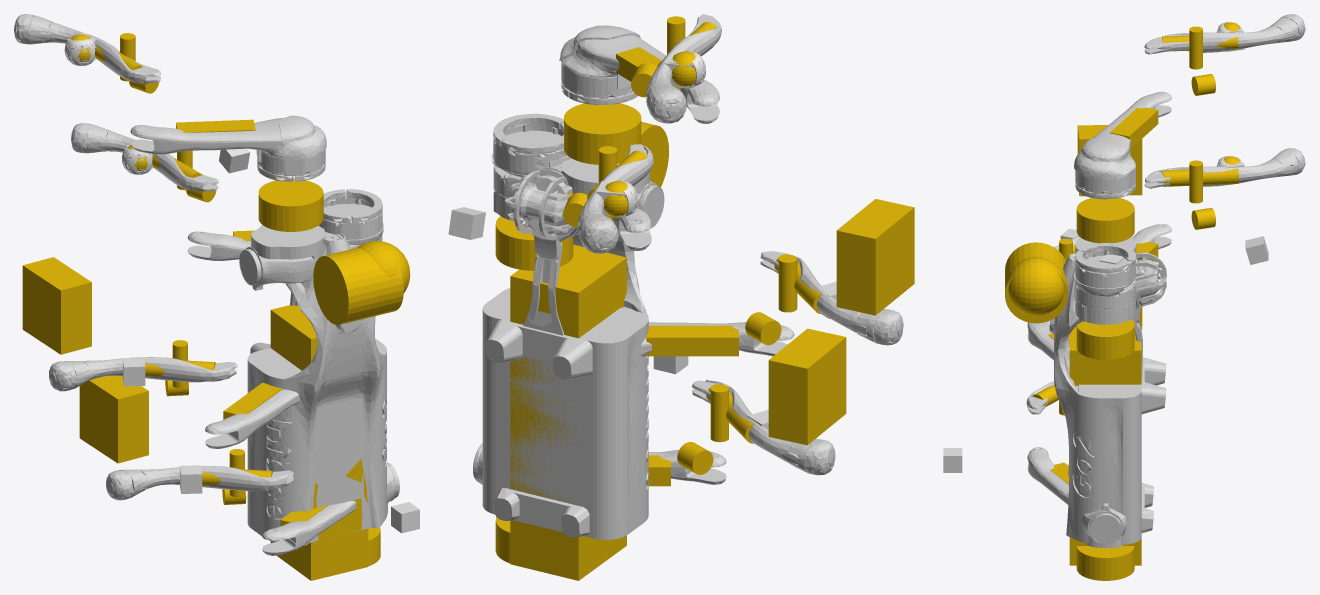
Rendered from go2_biped.fbx.
3 renders of one model, left to right at view 1: azimuth 30°, elevation 25°; view 2: azimuth 150°, elevation 25°; view 3: azimuth 270°, elevation 25°, orthographic. The views are drawn at different scales.
Parts seen in each view (by area): view 1: base_None, FL_thigh_None, base_None.000, RL_foot_None.000, Head_upper_None, RR_foot_None.000, FR_thigh_None, FL_hip_None, RL_calf_None, RR_calf_None, FL_hip_None.000, FL_calf_None (+12 smaller); view 2: base_None, base_None.000, RR_foot_None.000, RL_foot_None.000, FL_thigh_None, FR_thigh_None, FL_hip_None.000, RR_calf_None, RL_calf_None, RL_thigh_None.000, FL_calf_None, FR_calf_None (+16 smaller); view 3: base_None, FL_thigh_None, FR_thigh_None, base_None.000, Head_lower_None, FL_calf_None, FL_hip_None.000, FR_hip_None.000, FR_calf_None, FR_hip_None, RR_hip_None.000, Head_upper_None (+12 smaller).
Boxes of the visible parts, x1,y1,x2,y2 form: base_None: (247,232,386,545); FL_thigh_None: (130,115,326,181); base_None.000: (270,305,368,580); RL_foot_None.000: (22,257,91,354); Head_upper_None: (313,247,403,324); RR_foot_None.000: (79,376,148,463); FR_thigh_None: (187,189,383,260); FL_hip_None: (239,225,325,290); RL_calf_None: (49,357,237,391); RR_calf_None: (106,466,293,500); FL_hip_None.000: (258,179,323,231); FL_calf_None: (14,14,161,83); base_None: (482,164,648,539); base_None.000: (510,244,626,580); RR_foot_None.000: (768,328,846,445); RL_foot_None.000: (836,199,914,315); FL_thigh_None: (559,25,719,123); FR_thigh_None: (491,113,651,250); FL_hip_None.000: (564,103,641,164); RR_calf_None: (692,379,835,475); RL_calf_None: (760,251,903,345); RL_thigh_None.000: (646,325,738,356); FL_calf_None: (646,14,721,123); FR_calf_None: (578,144,653,253); base_None: (1049,252,1166,544); FL_thigh_None: (1074,91,1171,199); FR_thigh_None: (1074,224,1171,296); base_None.000: (1069,326,1141,565); Head_lower_None: (1008,256,1064,315); FL_calf_None: (1144,14,1305,54); FL_hip_None.000: (1076,198,1134,243); FR_hip_None.000: (1076,319,1134,359); FR_calf_None: (1144,148,1305,188); FR_hip_None: (1074,279,1136,324); RR_hip_None.000: (1076,546,1134,580); Head_upper_None: (1005,242,1067,323).
Bounding box in the file's own units: 57.42 × 56.77 × 81.48.
